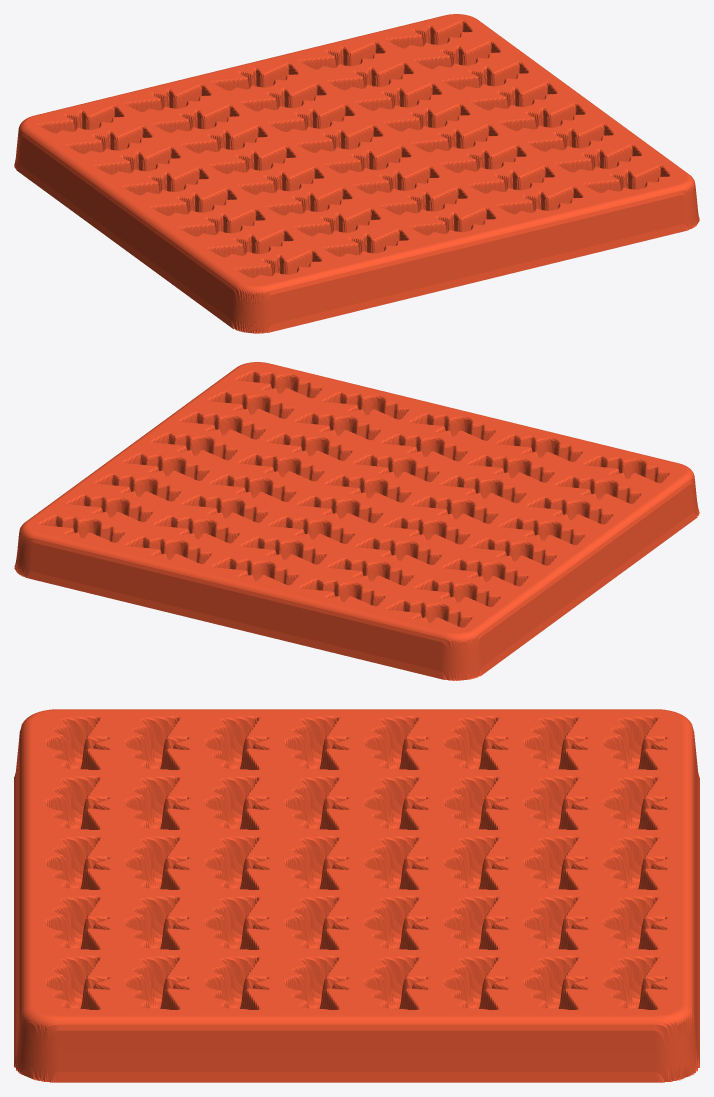
File: mold.glb
3 views of the same model, one above another, from view 1: azimuth 30°, elevation 25°; view 2: azimuth 150°, elevation 25°; view 3: azimuth 270°, elevation 25° (orthographic). The views are drawn at different scales.
Visible parts, largest first — view 1: geometry_0; view 2: geometry_0; view 3: geometry_0.
Boxes of the visible parts, <box> form: geometry_0: <box>14,14,699,333</box>; geometry_0: <box>14,362,699,680</box>; geometry_0: <box>14,709,699,1082</box>.
Size of the model in its own units: 0.1571 by 0.0136 by 0.1422.
